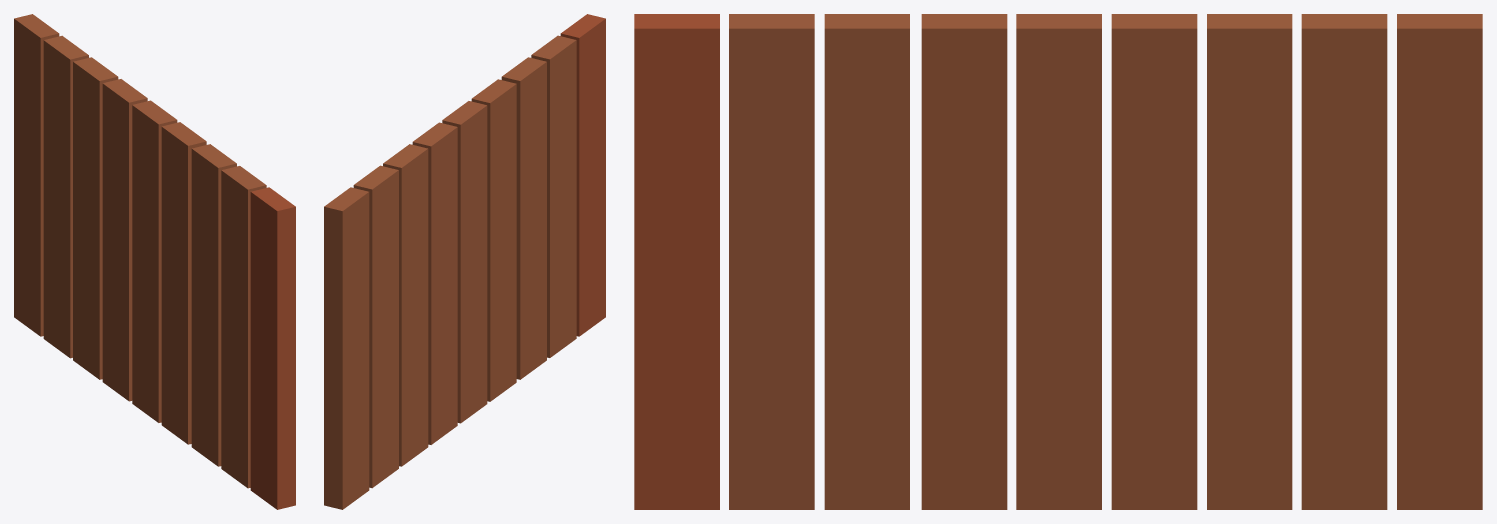
The model's file is Fence.fbx.
3 renders of one model, left to right at view 1: azimuth 30°, elevation 25°; view 2: azimuth 150°, elevation 25°; view 3: azimuth 270°, elevation 25°, orthographic. The views are drawn at different scales.
Parts seen in each view (by area): view 1: Cube, Cube.005, Cube.002, Cube.003, Cube.008, Cube.006, Cube.001, Cube.007, Cube.004; view 2: Cube.008, Cube.002, Cube.004, Cube.001, Cube.007, Cube.003, Cube, Cube.005, Cube.006; view 3: Cube.005, Cube.003, Cube.007, Cube, Cube.001, Cube.002, Cube.004, Cube.008, Cube.006.
Part boxes in pixels (x1,y1,x2,y2): Cube: [250, 187, 295, 509]; Cube.005: [161, 122, 206, 444]; Cube.002: [191, 144, 236, 466]; Cube.003: [102, 79, 147, 401]; Cube.008: [14, 14, 59, 336]; Cube.006: [73, 57, 118, 379]; Cube.001: [221, 166, 266, 488]; Cube.007: [43, 35, 88, 358]; Cube.004: [132, 100, 177, 422]; Cube.008: [324, 187, 369, 509]; Cube.002: [501, 57, 546, 379]; Cube.004: [442, 101, 487, 423]; Cube.001: [531, 35, 576, 357]; Cube.007: [353, 165, 398, 488]; Cube.003: [412, 122, 457, 444]; Cube: [560, 14, 605, 336]; Cube.005: [471, 79, 516, 401]; Cube.006: [383, 144, 428, 466]; Cube.005: [921, 14, 1007, 509]; Cube.003: [1111, 14, 1197, 509]; Cube.007: [1301, 14, 1387, 509]; Cube: [634, 14, 719, 509]; Cube.001: [729, 14, 814, 509]; Cube.002: [824, 14, 909, 509]; Cube.004: [1016, 14, 1101, 509]; Cube.008: [1397, 14, 1482, 509]; Cube.006: [1207, 14, 1292, 509].
Bounding box in the file's own units: 10.92 × 167 × 267.
